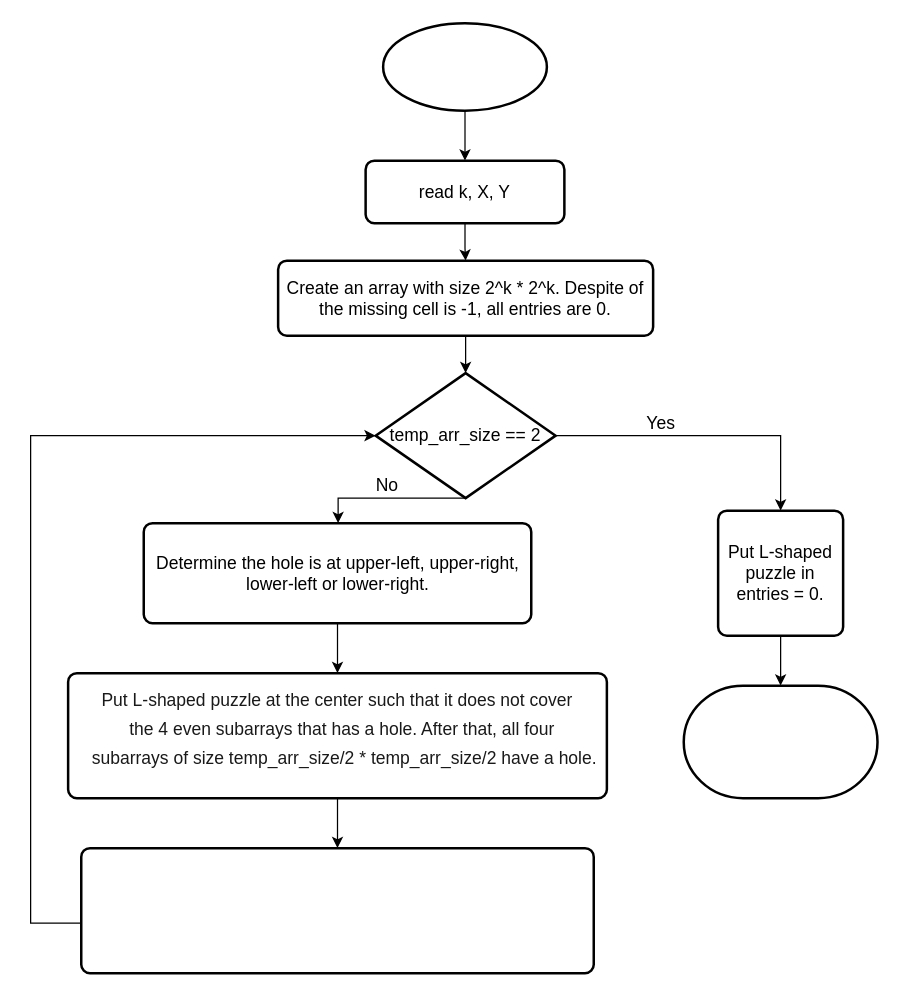
The diagram is 900 pixels wide and 995 high, and some of its shapes have lost their labels. Here are the shapes that lost their labels. From the top down, the centre of each, then its label:
At pixel 464 66: "read T".
At pixel 780 741: "Print the result".
At pixel 336 910: "Recursively solve the four temp_arr_size/2 * temp_arr_size/2 subarrays.".
